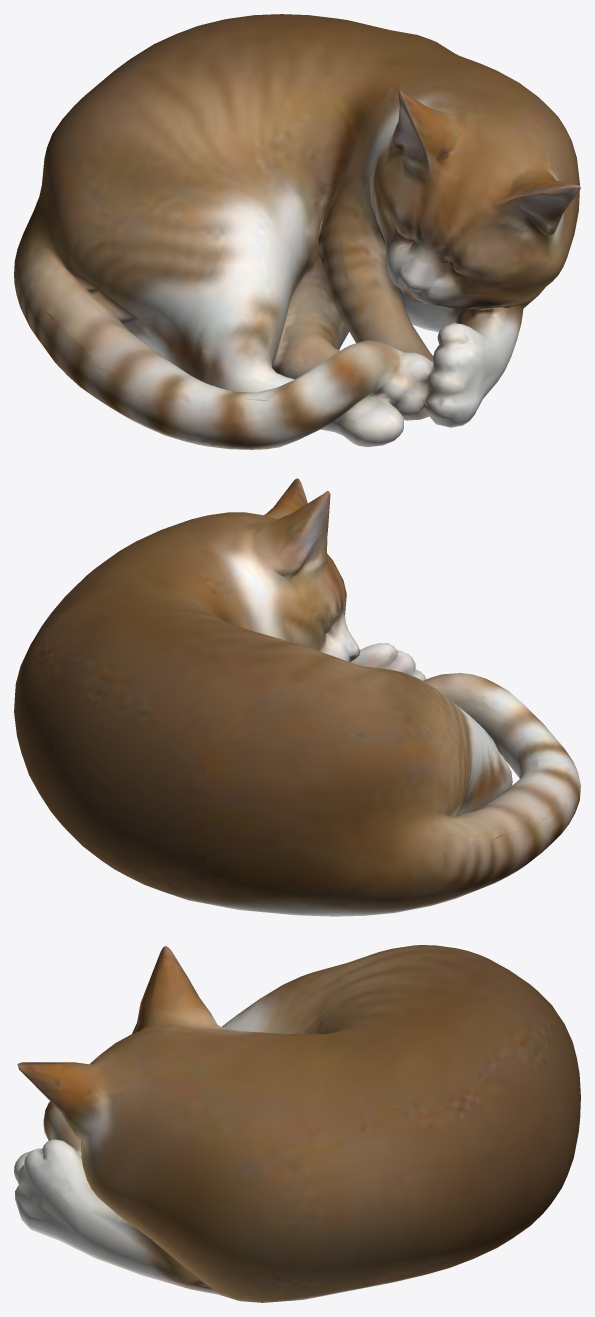
File: cat-sleep-m.glb
The picture shows the model from 3 angles, top to bottom: view 1: azimuth 30°, elevation 25°; view 2: azimuth 150°, elevation 25°; view 3: azimuth 270°, elevation 25°; orthographic projection. The views are drawn at different scales.
Visible parts, largest first — view 1: cat-sleep; view 2: cat-sleep; view 3: cat-sleep.
Part boxes in pixels (x1,y1,x2,y2): cat-sleep: (14, 14, 580, 449); cat-sleep: (14, 478, 580, 916); cat-sleep: (14, 945, 580, 1302).
Size of the model in its own units: 0.4152 by 0.2314 by 0.42.
1 material, 1 textured.
